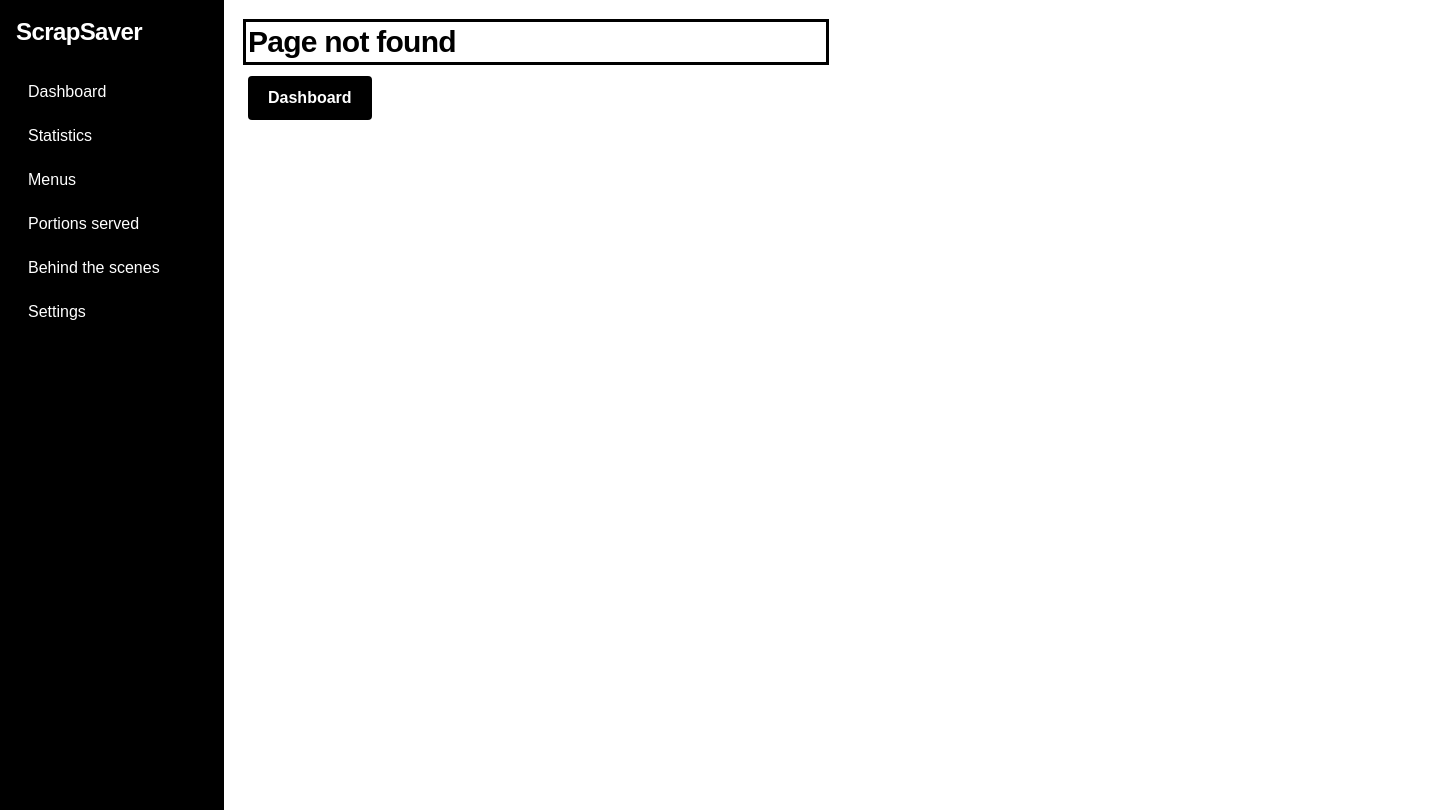
Test: routes › shows a friendly 404 with a way back to the dashboard
What coordinates should you click on to do the following:
click the button "Dashboard"
I would click on:
 (310, 98)
Its box is [248,76,372,120].
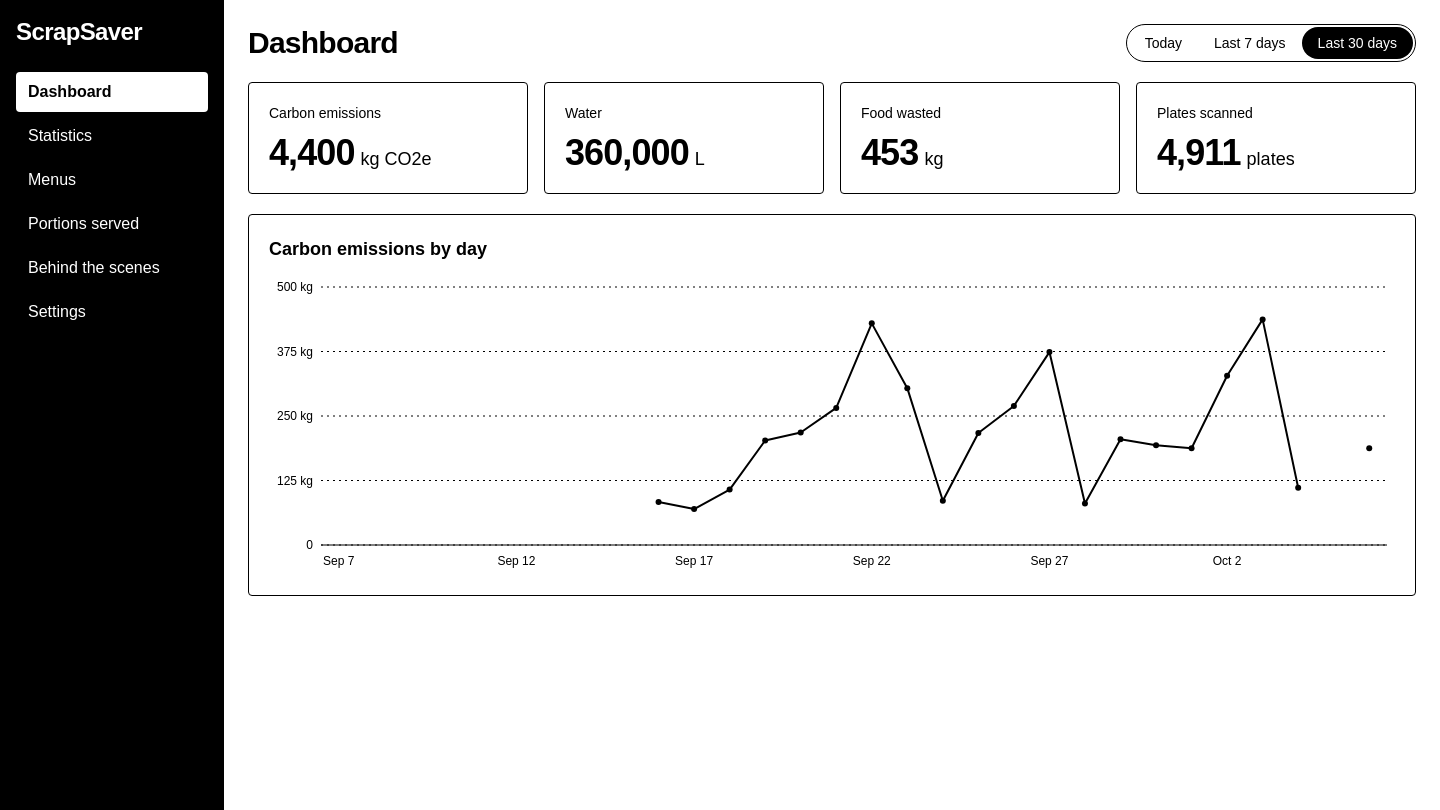
Result: the heading "Dashboard" is shown at [248,25,398,61]
